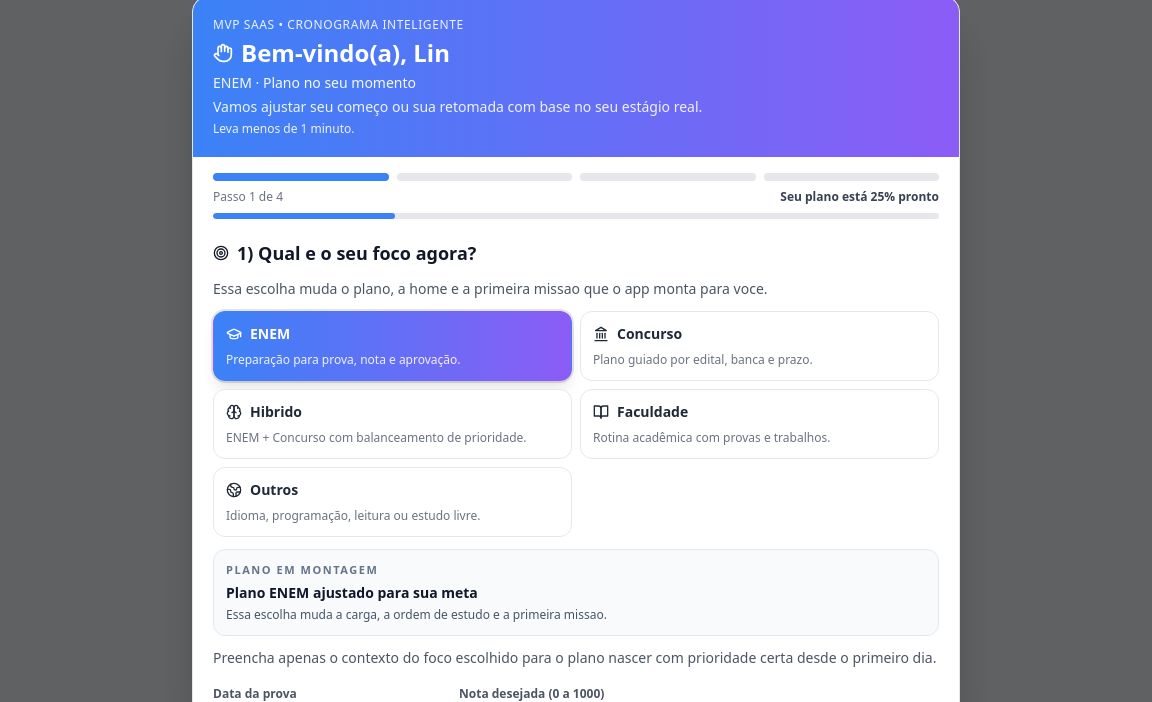
Test case: OnboardingFlow › abre o modo hibrido com foco principal, carga sustentavel e dois contextos de prova
Step 1. Click the button "Hibrido ENEM + Concurso com balanceamento de prioridade." → x=276, y=412, box [213, 389, 572, 459]
(page scrolled)
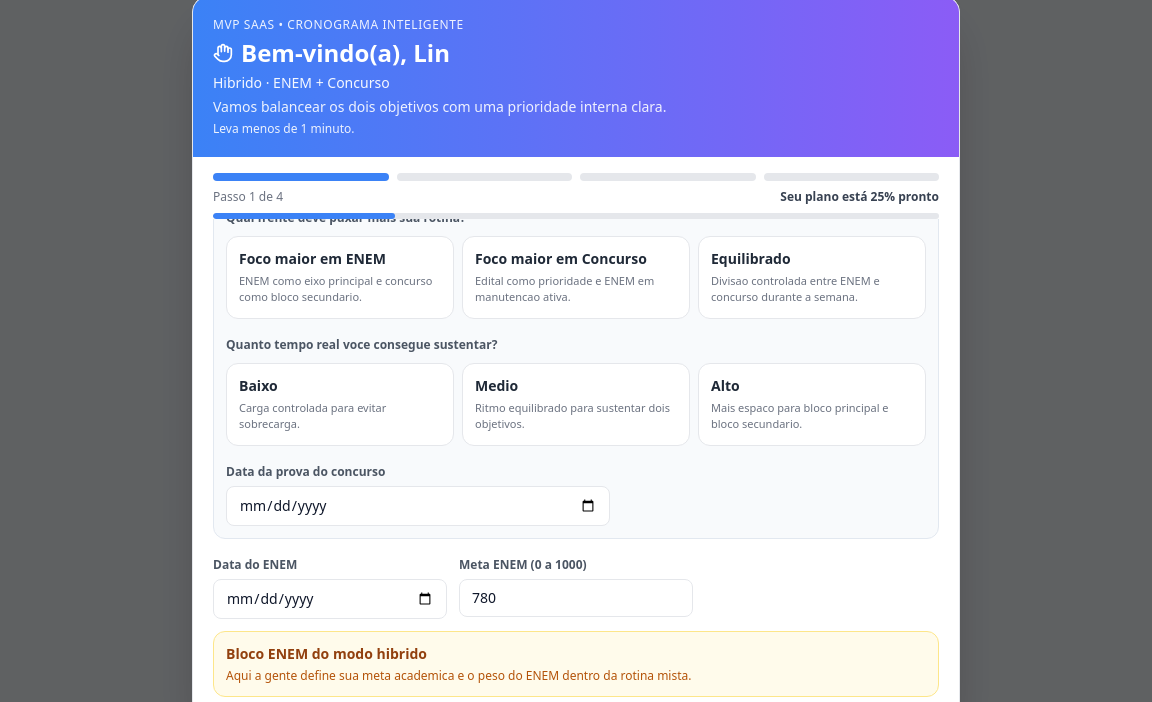
Expected: the text "Bloco ENEM do modo hibrido" is shown, [226, 644, 427, 662]
Expected: the text "Quanto tempo real voce consegue sustentar?" is shown, [226, 336, 497, 352]
Expected: the text "Data da prova do concurso" is shown, [226, 462, 385, 480]
